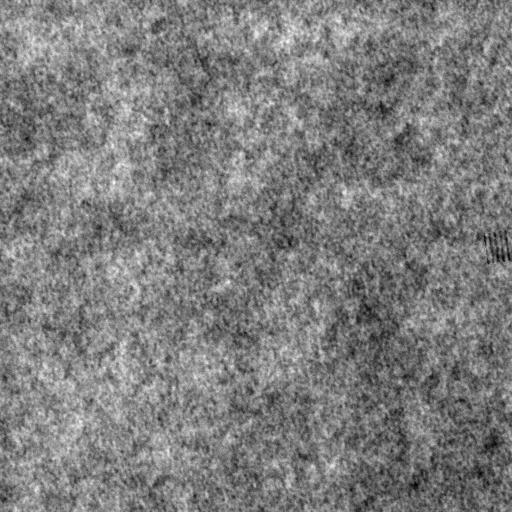DefectTypeB: (481, 227, 512, 264)
